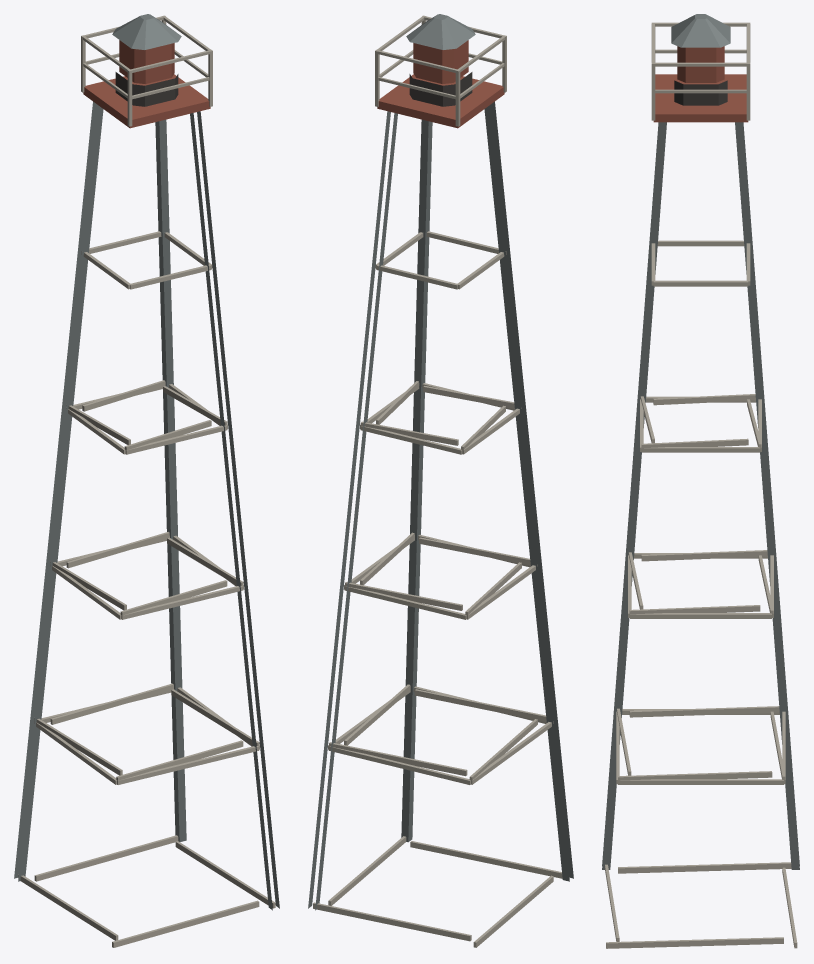
The model's file is cyxd_beacon_tower.gltf.
The picture shows the model from 3 angles, left to right: view 1: azimuth 30°, elevation 25°; view 2: azimuth 150°, elevation 25°; view 3: azimuth 270°, elevation 25°; orthographic projection.
Parts seen in each view (by area): view 1: cyxd_beacon_tower; view 2: cyxd_beacon_tower; view 3: cyxd_beacon_tower.
Part boxes in pixels (box(x1,y1,x2,y2)): cyxd_beacon_tower: box(14, 14, 279, 947); cyxd_beacon_tower: box(308, 14, 573, 947); cyxd_beacon_tower: box(602, 14, 799, 948).
Size of the model in its own units: 3.34 by 16.6 by 3.34.
